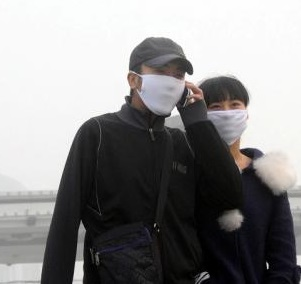person: (39, 33, 245, 284), (194, 66, 300, 284)
